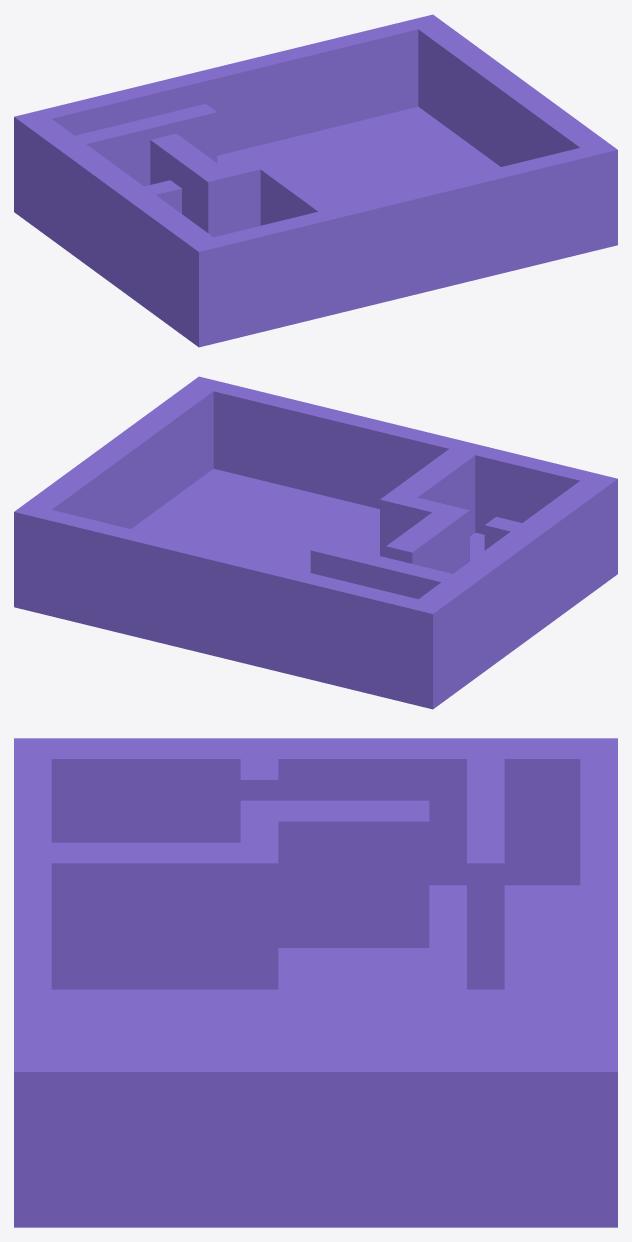
The model's file is firstLevel 1.fbx.
The picture shows the model from 3 angles, top to bottom: view 1: azimuth 30°, elevation 25°; view 2: azimuth 150°, elevation 25°; view 3: azimuth 270°, elevation 25°; orthographic projection. The views are drawn at different scales.
Parts seen in each view (by area): view 1: Cube; view 2: Cube; view 3: Cube.
Part boxes in pixels (x1,y1,x2,y2): Cube: (14,14,617,347); Cube: (14,376,617,709); Cube: (14,738,617,1227).
Size of the model in its own units: 17.02 by 3.7 by 13.01.
